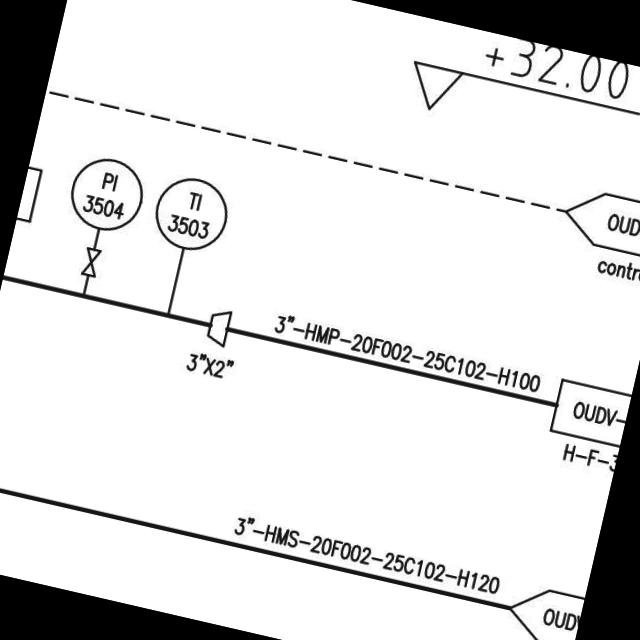GV: (74, 239, 106, 279)
SP: (199, 301, 236, 348)
